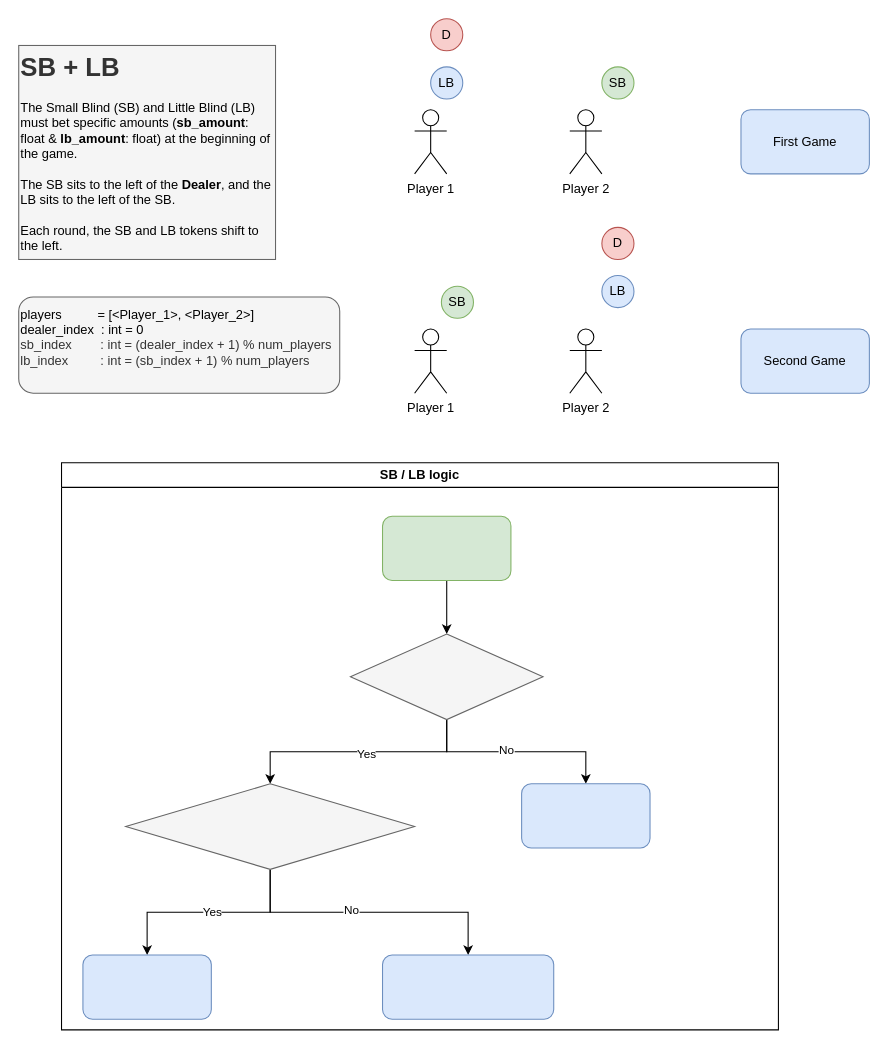
Image size: 888x1049. Some labels were removed from this diagram. Each missing label, with the centre of its shape:
"Before game starts" goes at point 446,547.
"Do nothing" goes at point 585,815.
"Player is forced to go in for SB amount" goes at point 146,986.
"player is SB?" goes at point 446,676.
"player_stack is atleast SB amount?" goes at point 270,826.
"They are forced to go all in. This will also trigger the side-pot mechanics" goes at point 467,986.
